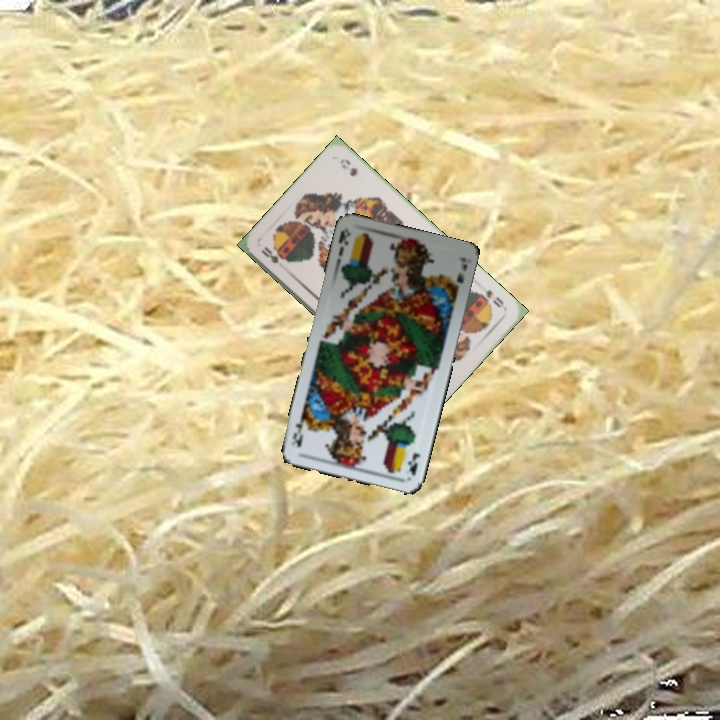EK: (334, 226, 354, 258), (404, 449, 423, 478)
SO: (257, 242, 286, 266), (482, 286, 506, 310)
